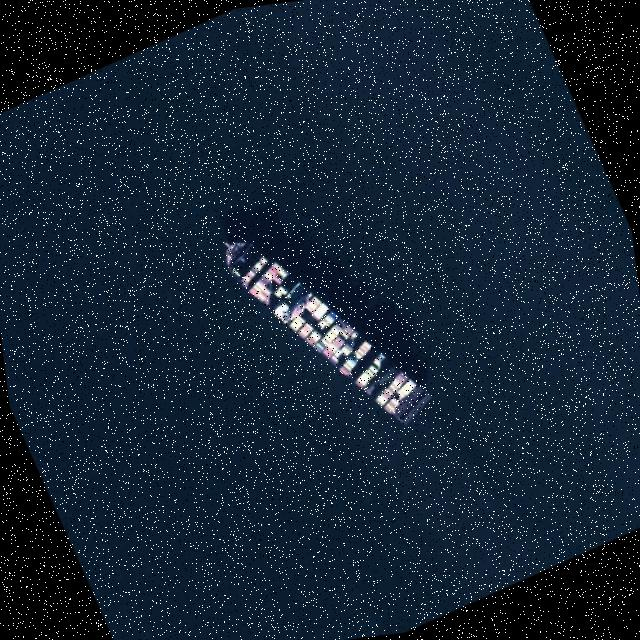ship: (216, 228, 436, 424)
